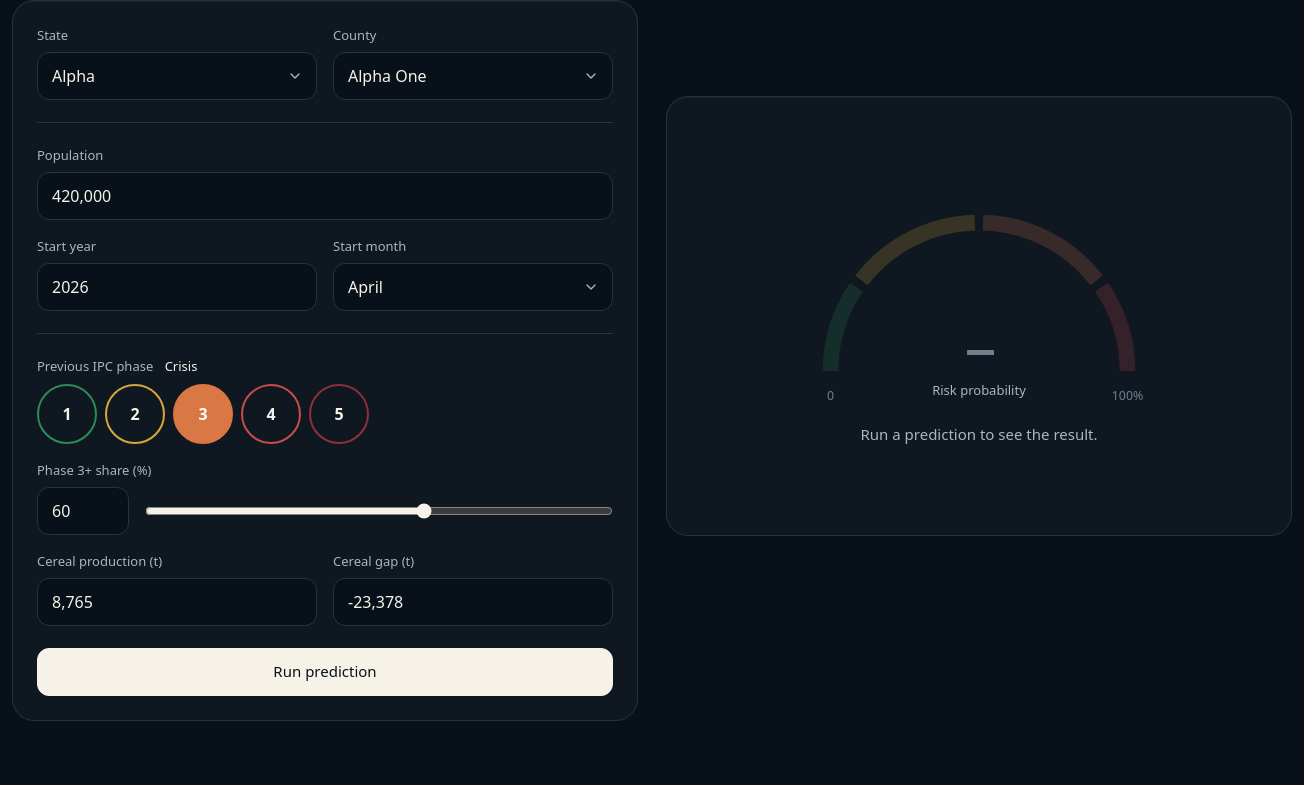
Test case: PredictWorkspace › shows model warnings
The width and height of the screenshot is (1304, 785).
Click the button "Run prediction" at (325, 672), box [37,648,613,696]
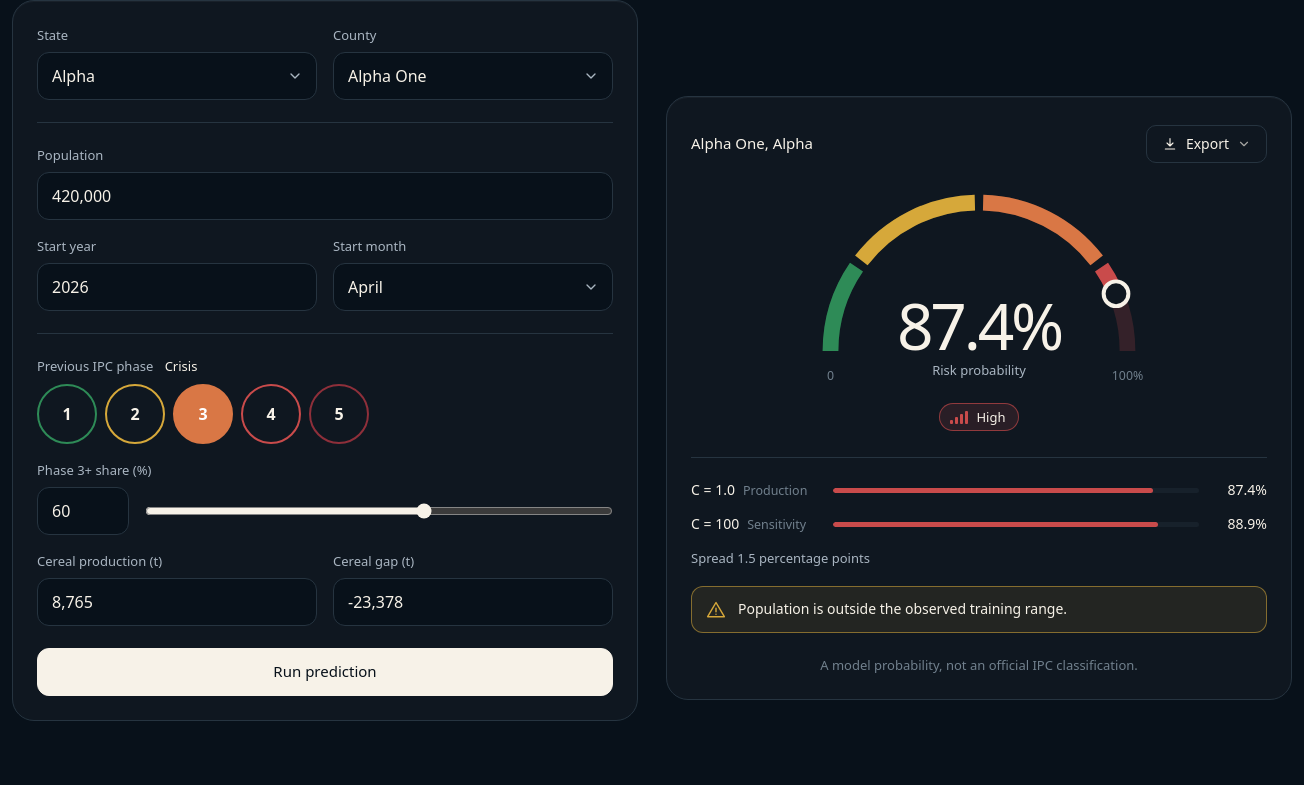
Result: the text "Population is outside the observed training range." is shown at [738,599,1067,620]
